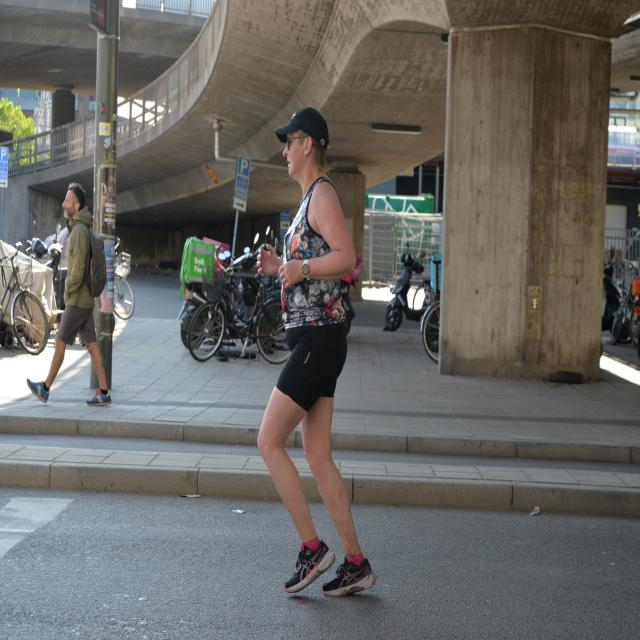runner-detect: (242, 100, 402, 604)
